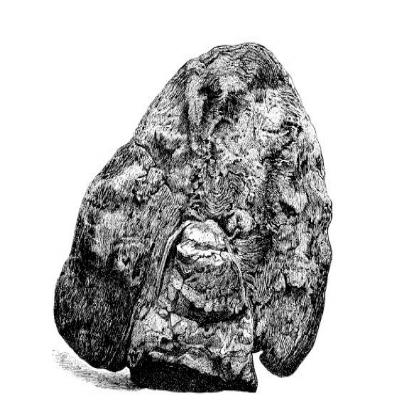Sedimentary_Limestone: (48, 42, 336, 396)
